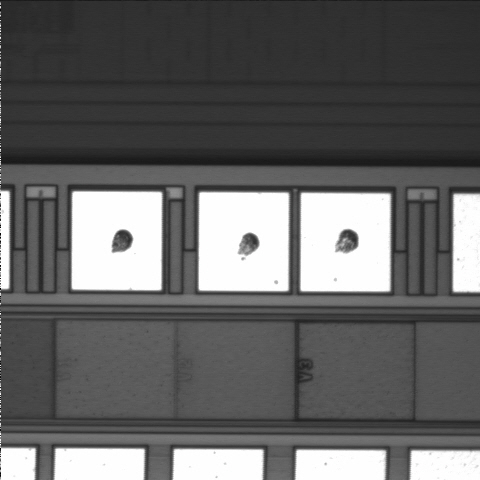pad: (199, 192, 289, 291), (72, 192, 162, 290), (301, 193, 390, 291)
